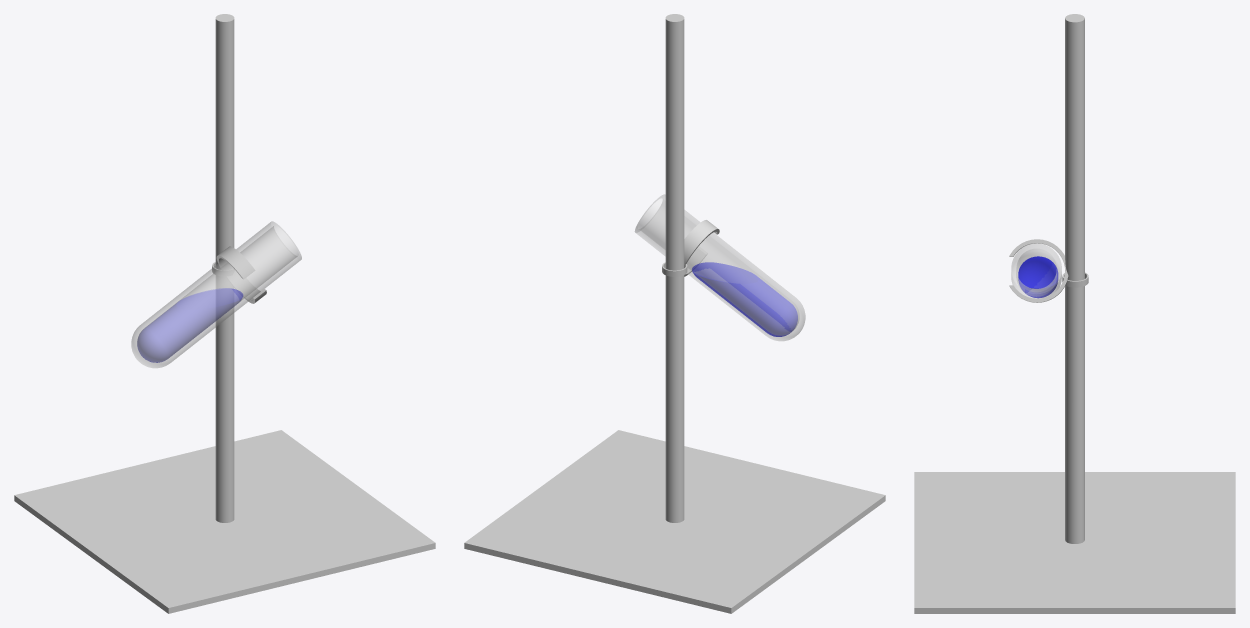
3 views of the same model, side by side, from view 1: azimuth 30°, elevation 25°; view 2: azimuth 150°, elevation 25°; view 3: azimuth 270°, elevation 25° (orthographic). The views are drawn at different scales.
Parts seen in each view (by area): view 1: tube; view 2: tube; view 3: tube.
Part boxes in pixels (box(x1,y1,x2,y2)): tube: box(14, 14, 435, 613); tube: box(464, 14, 885, 613); tube: box(914, 14, 1235, 613).
Size of the model in its own units: 180 by 326 by 180.
